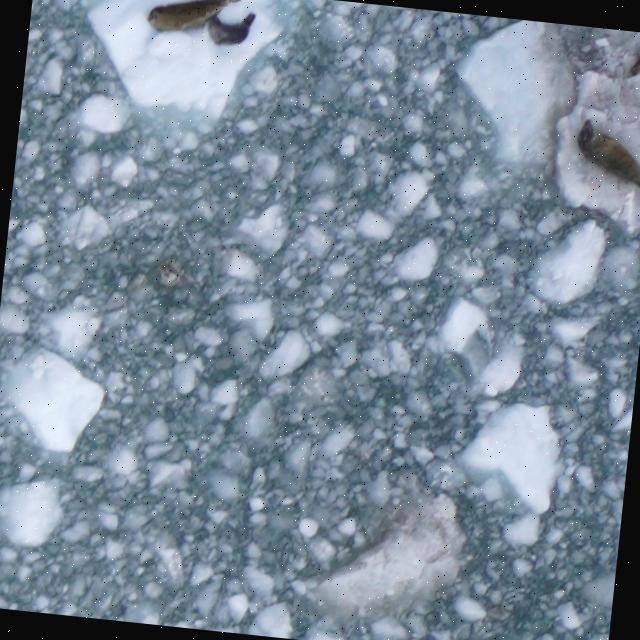seal: (568, 116, 640, 199), (144, 0, 245, 42), (203, 5, 261, 53), (622, 30, 640, 82)
